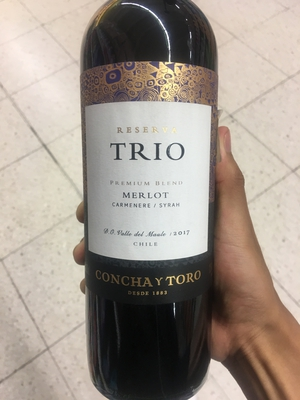trio merlot: (74, 13, 224, 392)
